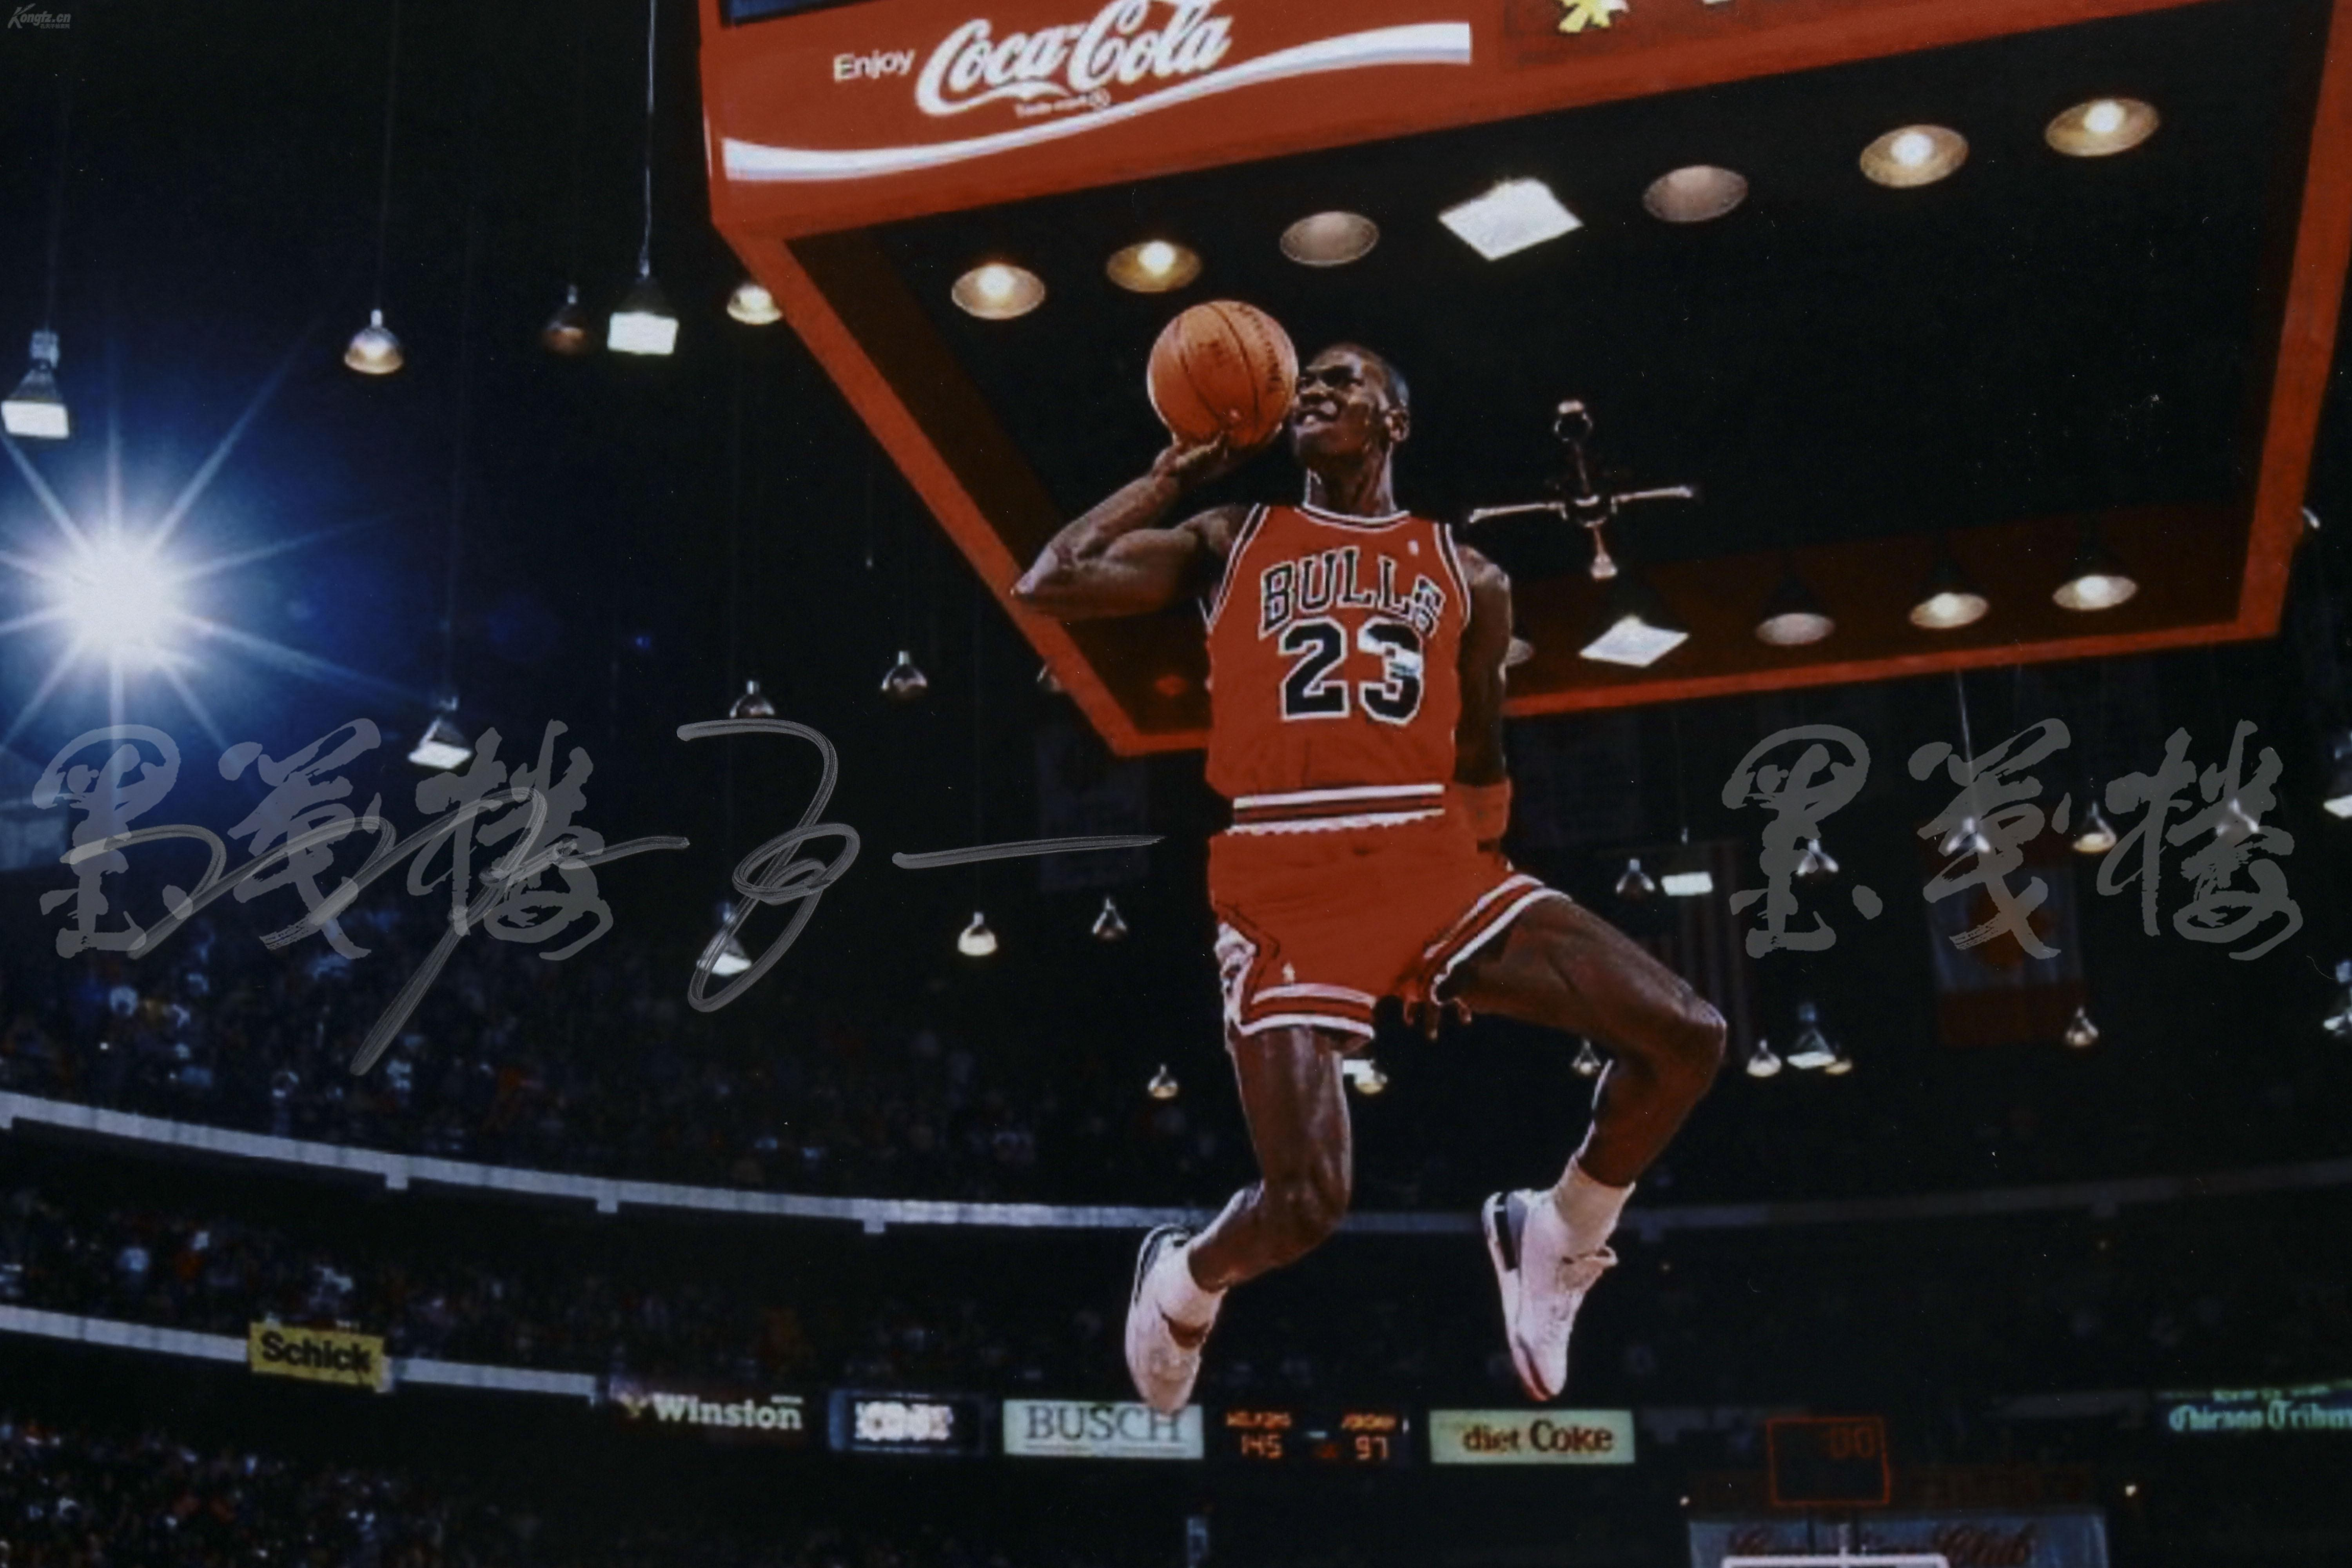ball: (1145, 299, 1302, 451)
